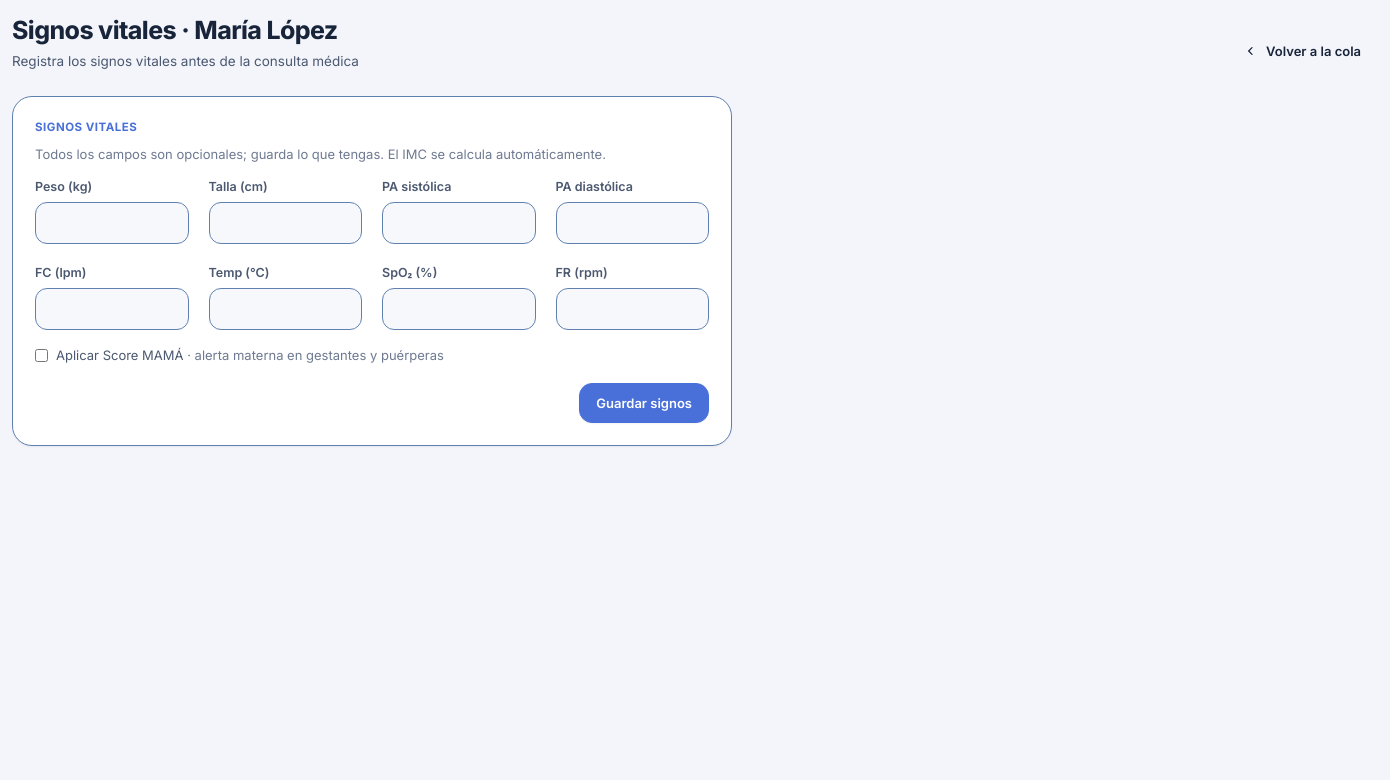
Scenario: TriagePage › restores a saved non-quantifiable urine output when triage is reopened
Step 1. Click the checkbox labelled "Aplicar Score MAMÁ · alerta materna en gestantes y puérperas" → (42,355), box top-left (35, 349), bottom-right (48, 362)
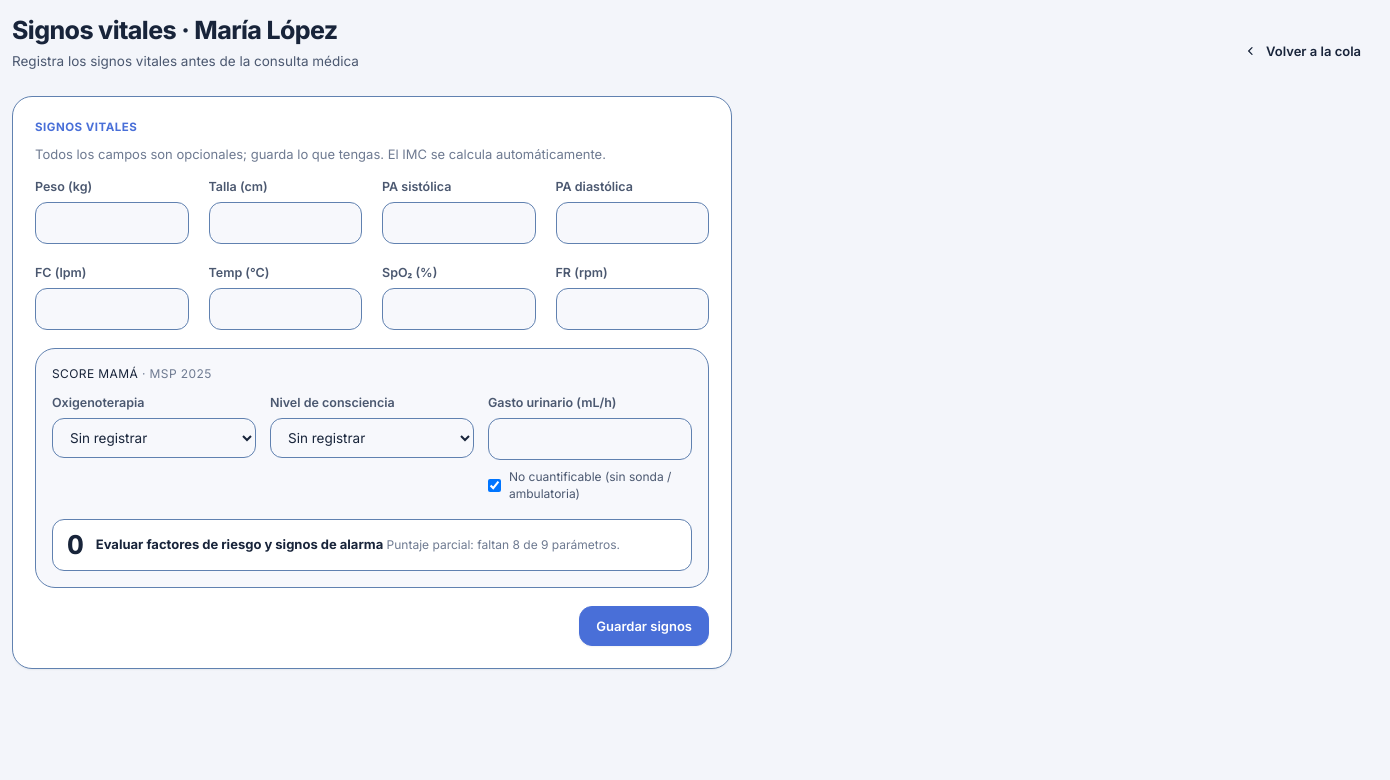
Expected: the checkbox labelled "No cuantificable (sin sonda / ambulatoria)" is checked, top-left (488, 479), bottom-right (501, 492)
Expected: the field labelled "Gasto urinario (mL/h)" is disabled, top-left (488, 418), bottom-right (692, 460)
